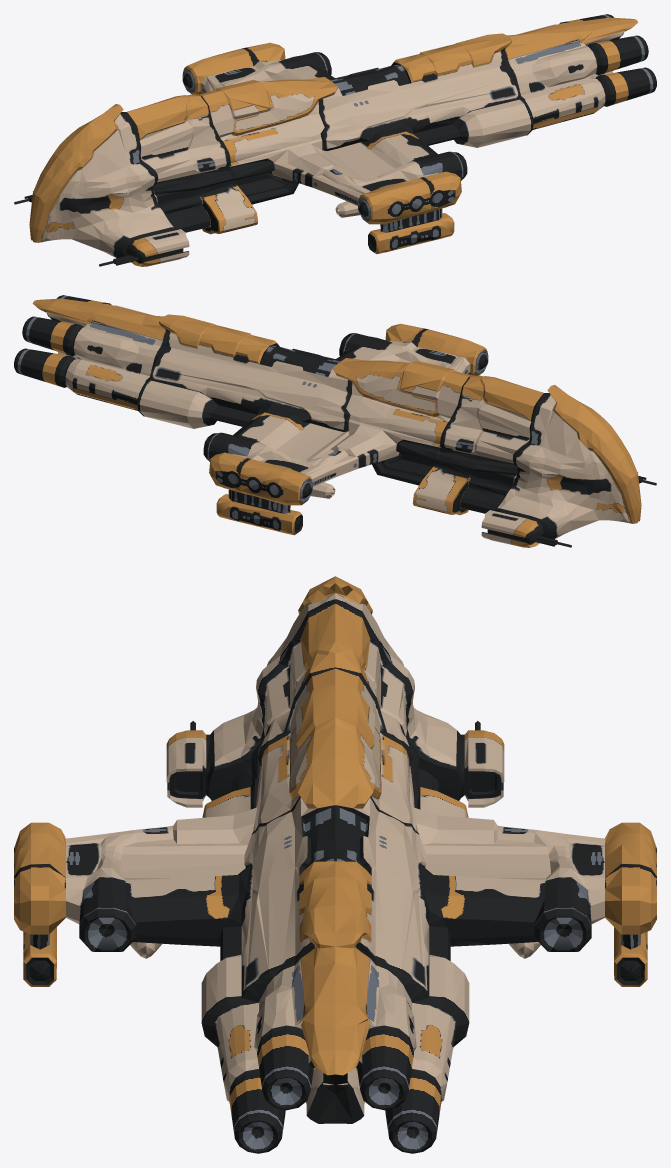
File: harbinger.glb
The picture shows the model from 3 angles, top to bottom: view 1: azimuth 30°, elevation 25°; view 2: azimuth 150°, elevation 25°; view 3: azimuth 270°, elevation 25°; orthographic projection. The views are drawn at different scales.
Parts seen in each view (by area): view 1: Harbinger; view 2: Harbinger; view 3: Harbinger.
Part boxes in pixels (bbox=[...]): Harbinger: bbox=[14, 14, 656, 266]; Harbinger: bbox=[14, 295, 656, 547]; Harbinger: bbox=[14, 576, 656, 1153].
Size of the model in its own units: 395 by 79.26 by 216.
1 material, 1 textured.
